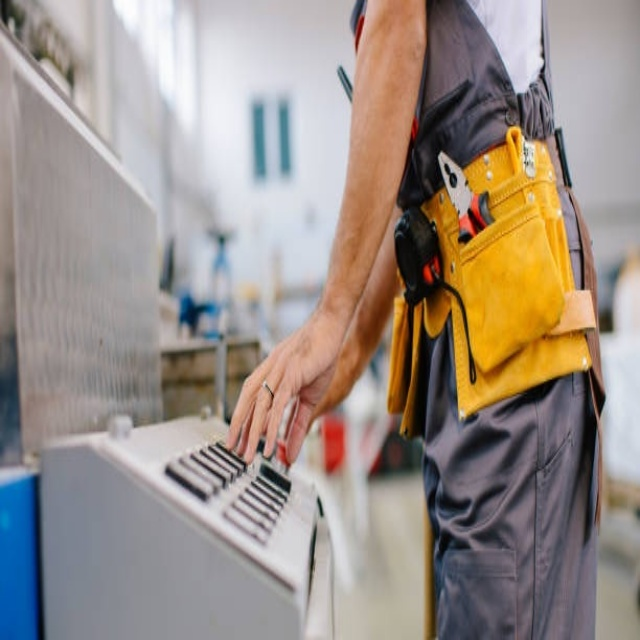Sin_guantes: (224, 328, 329, 472)
